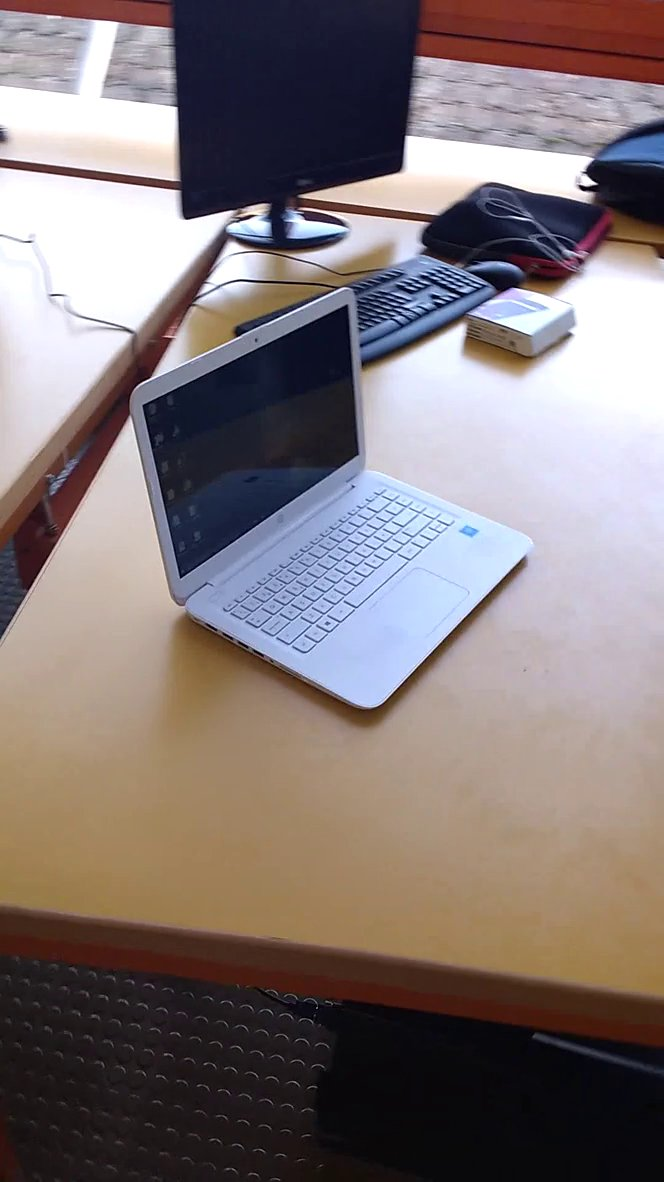laptop: (124, 284, 543, 723)
